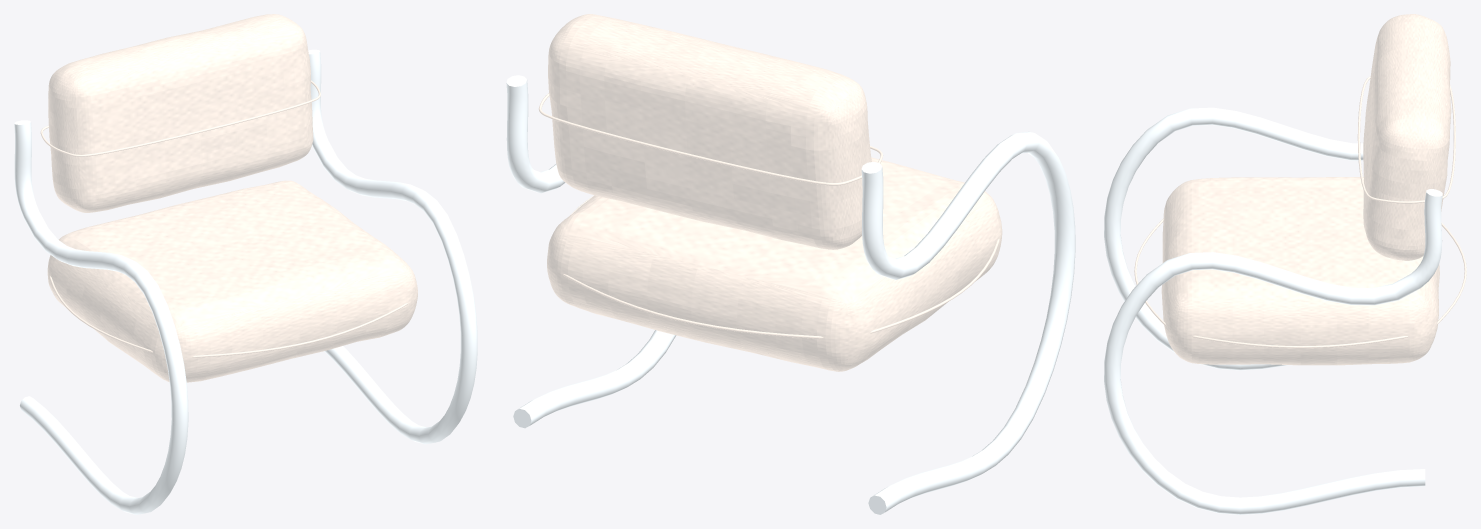
Rendered from ref05_06.glb.
3 renders of one model, left to right at view 1: azimuth 30°, elevation 25°; view 2: azimuth 150°, elevation 25°; view 3: azimuth 270°, elevation 25°, orthographic. The views are drawn at different scales.
Visible parts, largest first — view 1: ref05_06; view 2: ref05_06; view 3: ref05_06.
Boxes of the visible parts, box(x1,y1,x2,y2) form: ref05_06: box(14, 14, 477, 514); ref05_06: box(506, 14, 1075, 514); ref05_06: box(1104, 14, 1466, 514).
Size of the model in its own units: 0.7818 by 0.902 by 0.7853.
2 materials, 1 textured.
